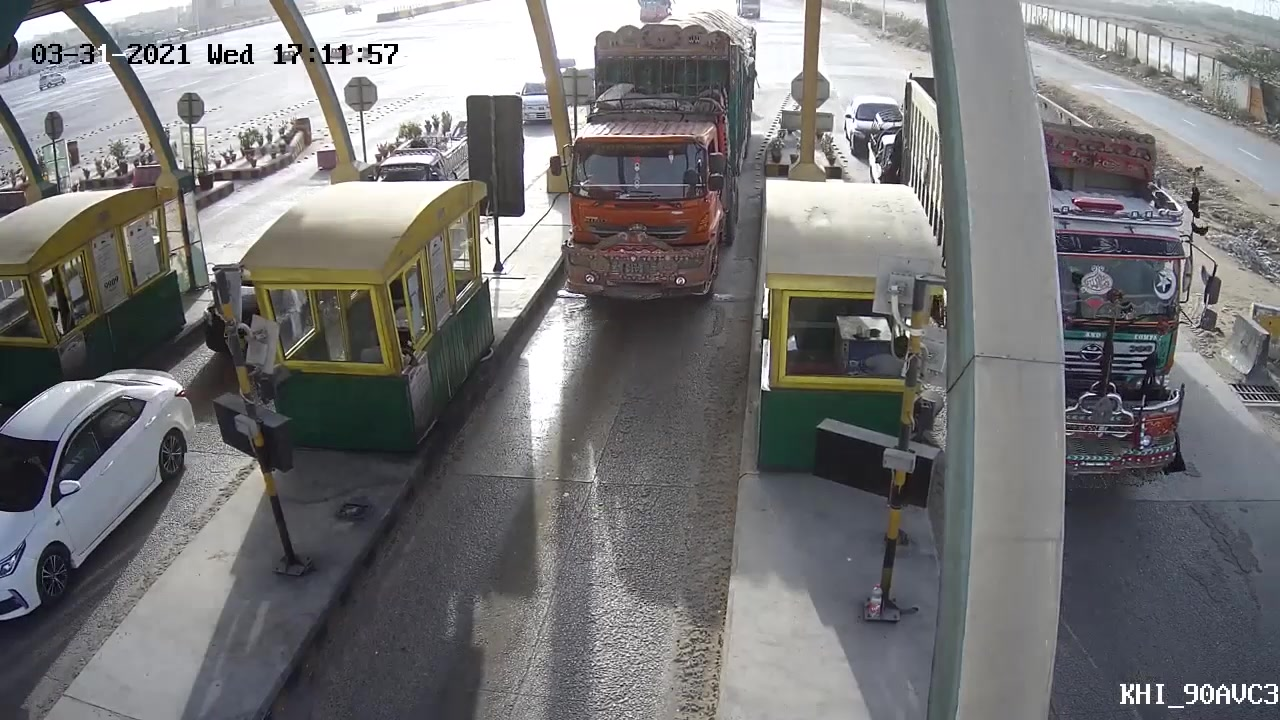F6: (557, 26, 752, 312)
